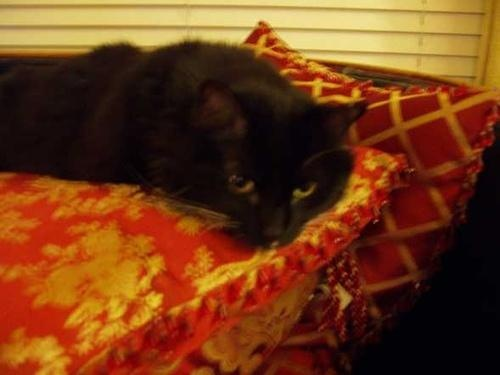cat: (1, 36, 369, 250)
